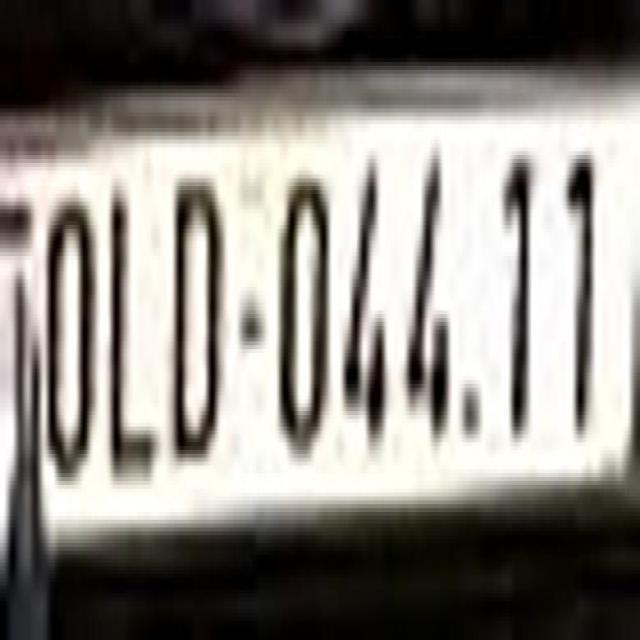0: (271, 143, 330, 454), (40, 194, 96, 481)
1: (556, 108, 600, 466), (506, 136, 536, 438)
4: (338, 155, 392, 458), (408, 155, 456, 454)
D: (170, 175, 222, 462)
L: (105, 187, 165, 500)
